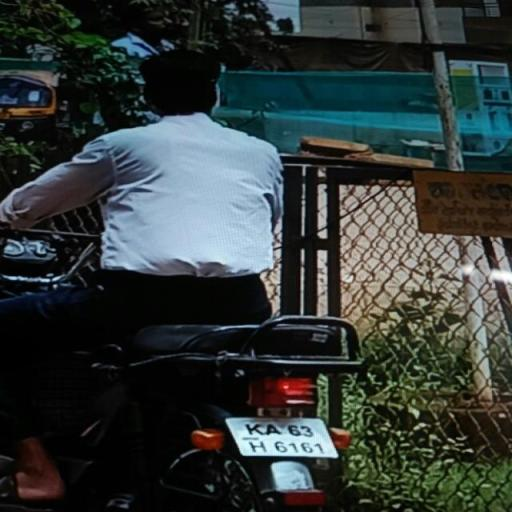bike: (0, 47, 360, 511)
numberplate: (229, 410, 337, 462)
withouthelmet: (143, 52, 216, 114)
